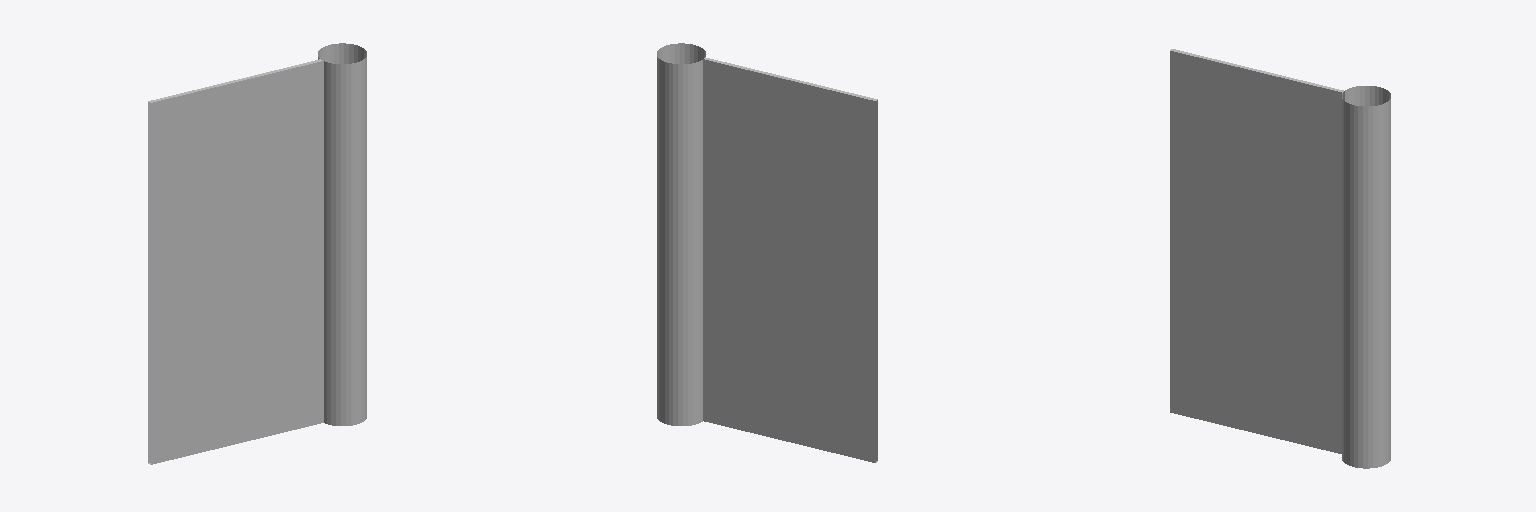
File: spl-goalpost-left-v3.obj
3 renders of one model, left to right at view 1: azimuth 30°, elevation 25°; view 2: azimuth 150°, elevation 25°; view 3: azimuth 330°, elevation 25°, orthographic.
Visible parts, largest first — view 1: GoalPost_left_Cylinder.006; view 2: GoalPost_left_Cylinder.006; view 3: GoalPost_left_Cylinder.006.
Boxes of the visible parts, box(x1,y1,x2,y2) form: GoalPost_left_Cylinder.006: box(148, 43, 366, 464); GoalPost_left_Cylinder.006: box(657, 43, 877, 462); GoalPost_left_Cylinder.006: box(1170, 49, 1390, 468).
Bounding box in the file's own units: 5 × 8 × 1.